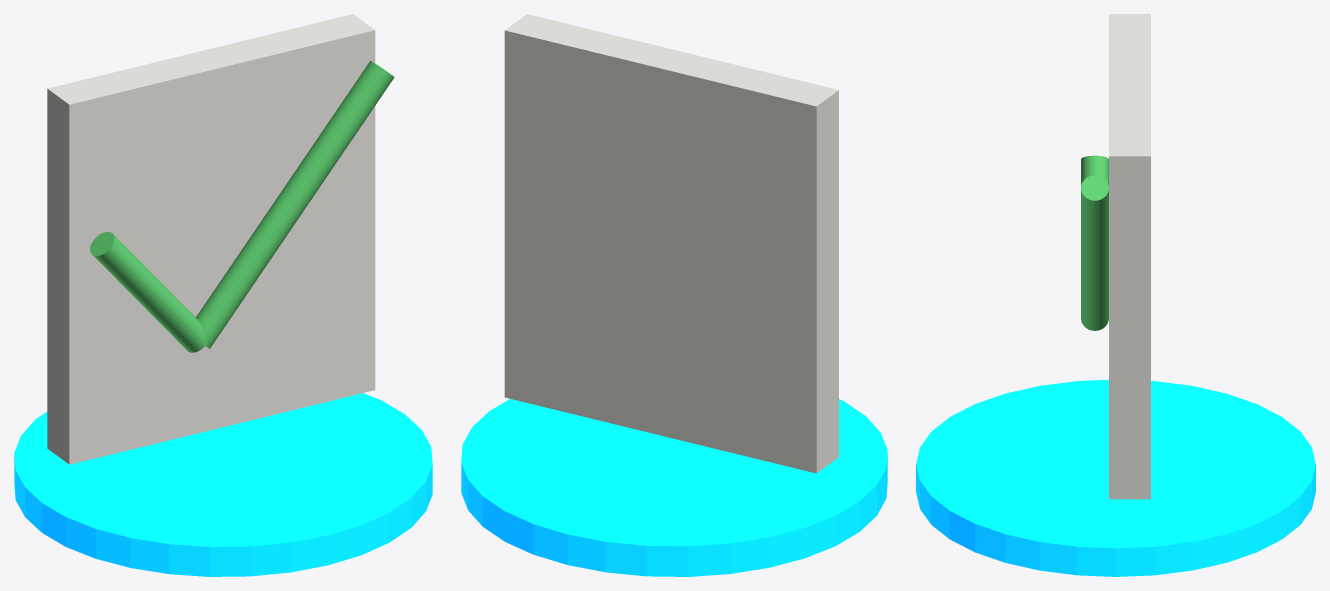
Rendered from news_fact_check.glb.
3 renders of one model, left to right at view 1: azimuth 30°, elevation 25°; view 2: azimuth 150°, elevation 25°; view 3: azimuth 270°, elevation 25°, orthographic. The views are drawn at different scales.
Visible parts, largest first — view 1: 09_15_Popular_News_Fact_Check_part_01, 09_15_Popular_News_Fact_Check_ROOT_base, 09_15_Popular_News_Fact_Check_part_03, 09_15_Popular_News_Fact_Check_part_02; view 2: 09_15_Popular_News_Fact_Check_part_01, 09_15_Popular_News_Fact_Check_ROOT_base; view 3: 09_15_Popular_News_Fact_Check_ROOT_base, 09_15_Popular_News_Fact_Check_part_01, 09_15_Popular_News_Fact_Check_part_03, 09_15_Popular_News_Fact_Check_part_02.
Part boxes in pixels (box(x1,y1,x2,y2)): 09_15_Popular_News_Fact_Check_part_01: box(47, 14, 375, 464); 09_15_Popular_News_Fact_Check_ROOT_base: box(14, 393, 432, 576); 09_15_Popular_News_Fact_Check_part_03: box(196, 60, 394, 348); 09_15_Popular_News_Fact_Check_part_02: box(90, 231, 205, 352); 09_15_Popular_News_Fact_Check_part_01: box(504, 14, 838, 473); 09_15_Popular_News_Fact_Check_ROOT_base: box(461, 399, 887, 576); 09_15_Popular_News_Fact_Check_ROOT_base: box(916, 379, 1315, 576); 09_15_Popular_News_Fact_Check_part_01: box(1109, 14, 1150, 499); 09_15_Popular_News_Fact_Check_part_03: box(1081, 175, 1108, 330); 09_15_Popular_News_Fact_Check_part_02: box(1081, 155, 1108, 186).
Size of the model in its own units: 0.76 by 0.85 by 0.76.
